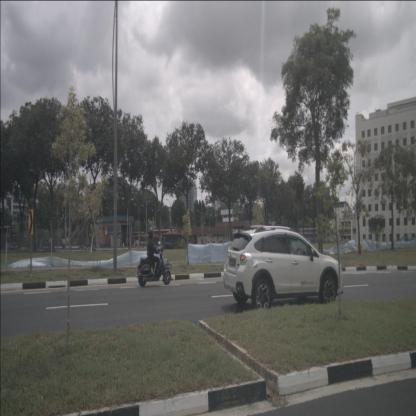vehicle-bus-rigid: (162, 233, 197, 252), (149, 229, 178, 245), (0, 226, 19, 250), (134, 234, 154, 248), (127, 231, 147, 245)
vehicle-car: (224, 226, 343, 312)
vehicle-motorcycle: (136, 227, 172, 287)
